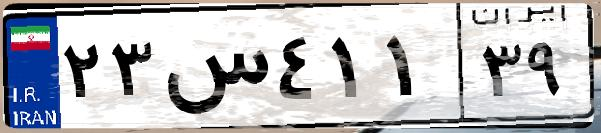1: (385, 28, 445, 110), (330, 28, 385, 110)
2: (57, 26, 110, 100)
3: (475, 38, 525, 113), (110, 28, 158, 98)
4: (270, 28, 330, 110)
9: (525, 38, 570, 115)
س: (158, 20, 270, 120)
